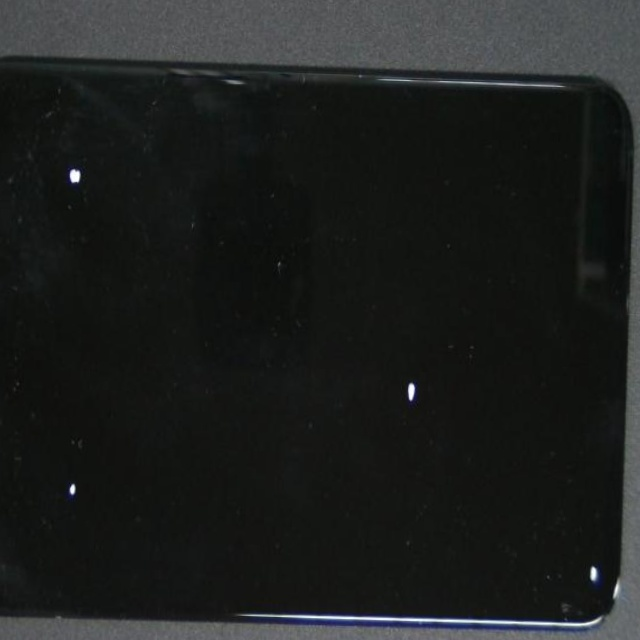stain: (169, 125, 640, 585), (268, 241, 640, 640), (0, 145, 153, 640), (0, 36, 147, 274)
